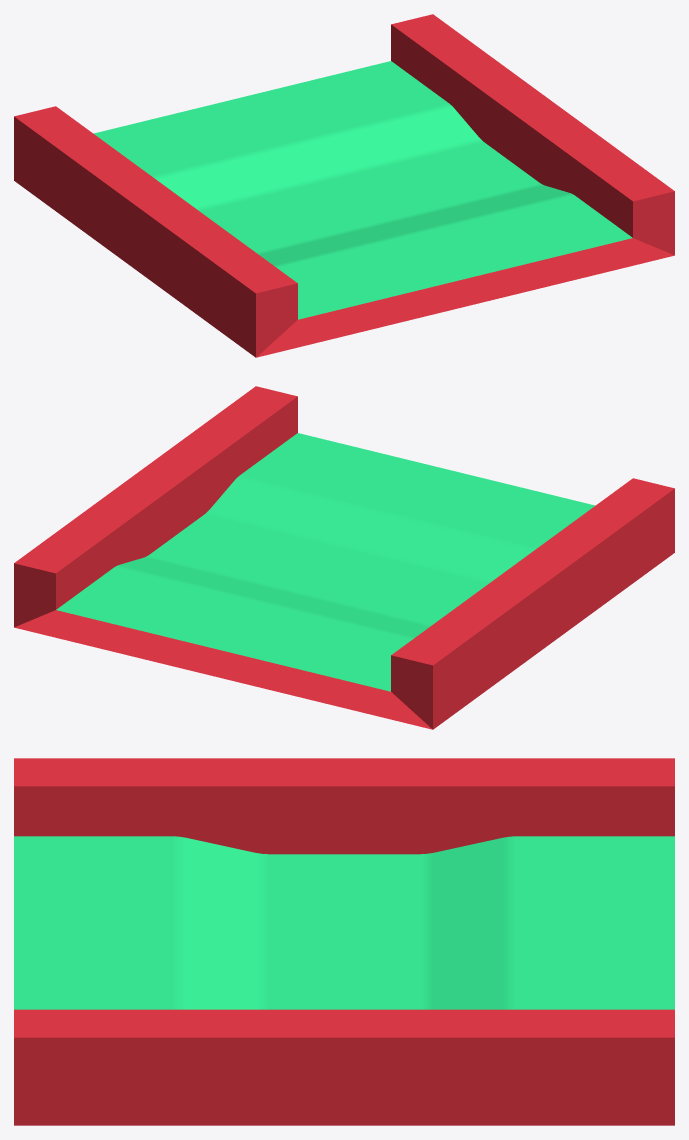
The model's file is crest.fbx.
3 renders of one model, top to bottom at view 1: azimuth 30°, elevation 25°; view 2: azimuth 150°, elevation 25°; view 3: azimuth 270°, elevation 25°, orthographic. The views are drawn at different scales.
Visible parts, largest first — view 1: crest; view 2: crest; view 3: crest.
Part boxes in pixels (<box>): crest: <box>14,14,674,357</box>; crest: <box>14,386,674,729</box>; crest: <box>14,758,674,1125</box>.
Size of the model in its own units: 99.99 by 99.99 by 14.67.
